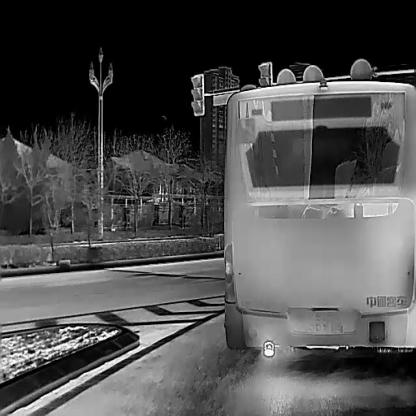bus: (222, 75, 415, 358)
